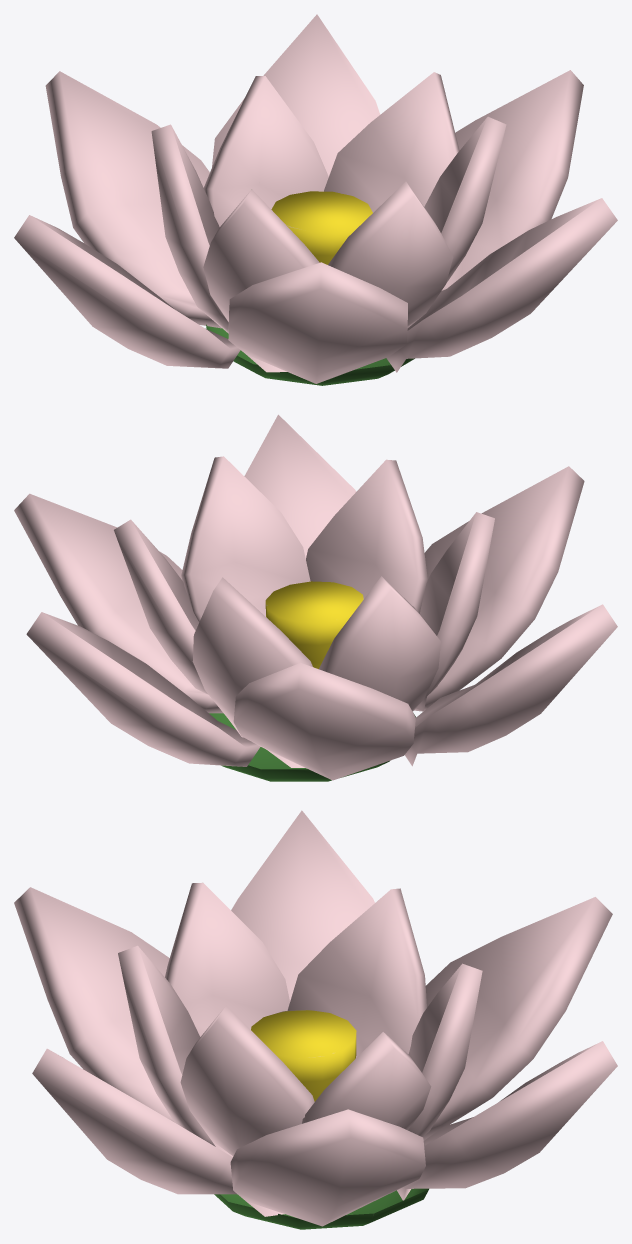
The model's file is lotusflower.fbx.
3 views of the same model, one above another, from view 1: azimuth 30°, elevation 25°; view 2: azimuth 150°, elevation 25°; view 3: azimuth 270°, elevation 25° (orthographic). The views are drawn at different scales.
Parts seen in each view (by area): view 1: Cube; view 2: Cube; view 3: Cube.
Part boxes in pixels (bbox=[...]): Cube: bbox=[14, 14, 617, 385]; Cube: bbox=[14, 414, 617, 781]; Cube: bbox=[14, 810, 617, 1229].
Size of the model in its own units: 768 by 305 by 641.
